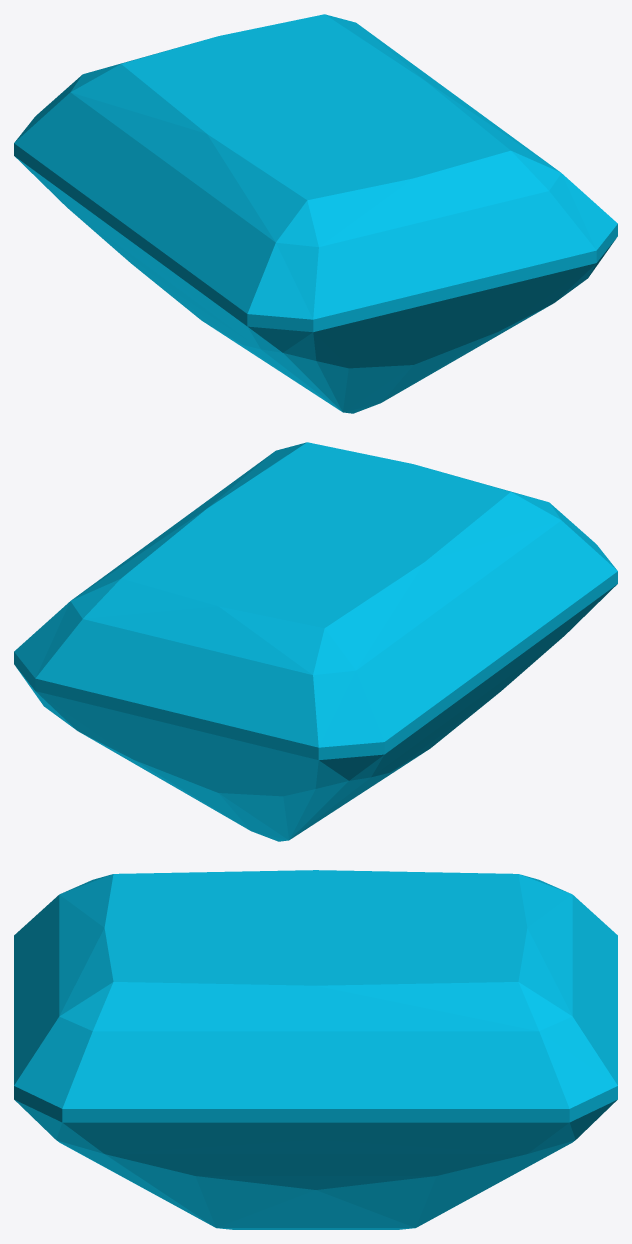
The model's file is Head_Hidden Halo_Radiant_1.5ct_Diamond.glb.
3 renders of one model, top to bottom at view 1: azimuth 30°, elevation 25°; view 2: azimuth 150°, elevation 25°; view 3: azimuth 270°, elevation 25°, orthographic. The views are drawn at different scales.
Size of the model in its own units: 0.00574 by 0.00412 by 0.00745.
